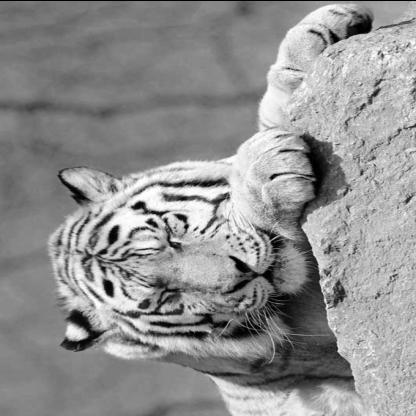tiger: (38, 165, 326, 365)
